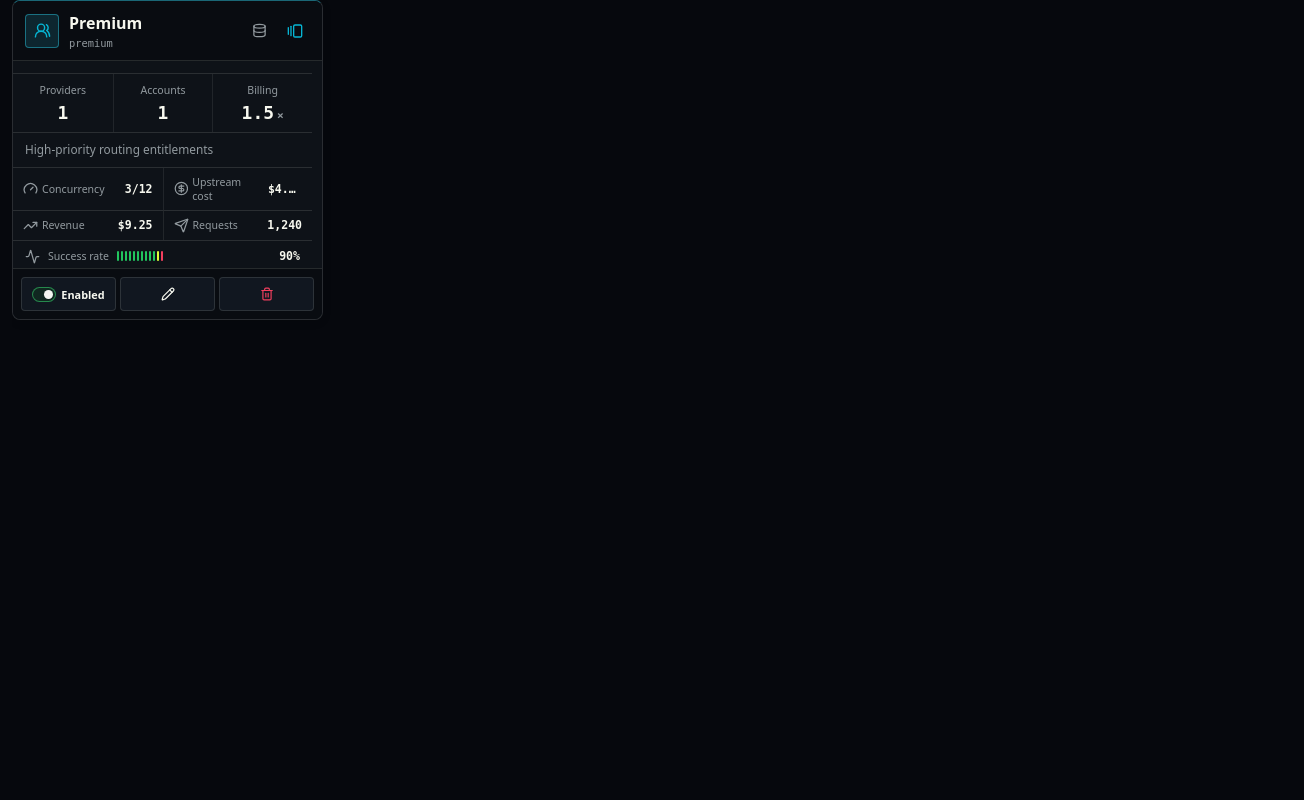
it: CredentialGroupsWorkspace › reuses the credential pool account cards for resolved members
What coordinates should you click on to do the following:
click the button "Premium premium"
I would click on:
 (152, 30)
Its box is x1=69 y1=12 x2=234 y2=49.
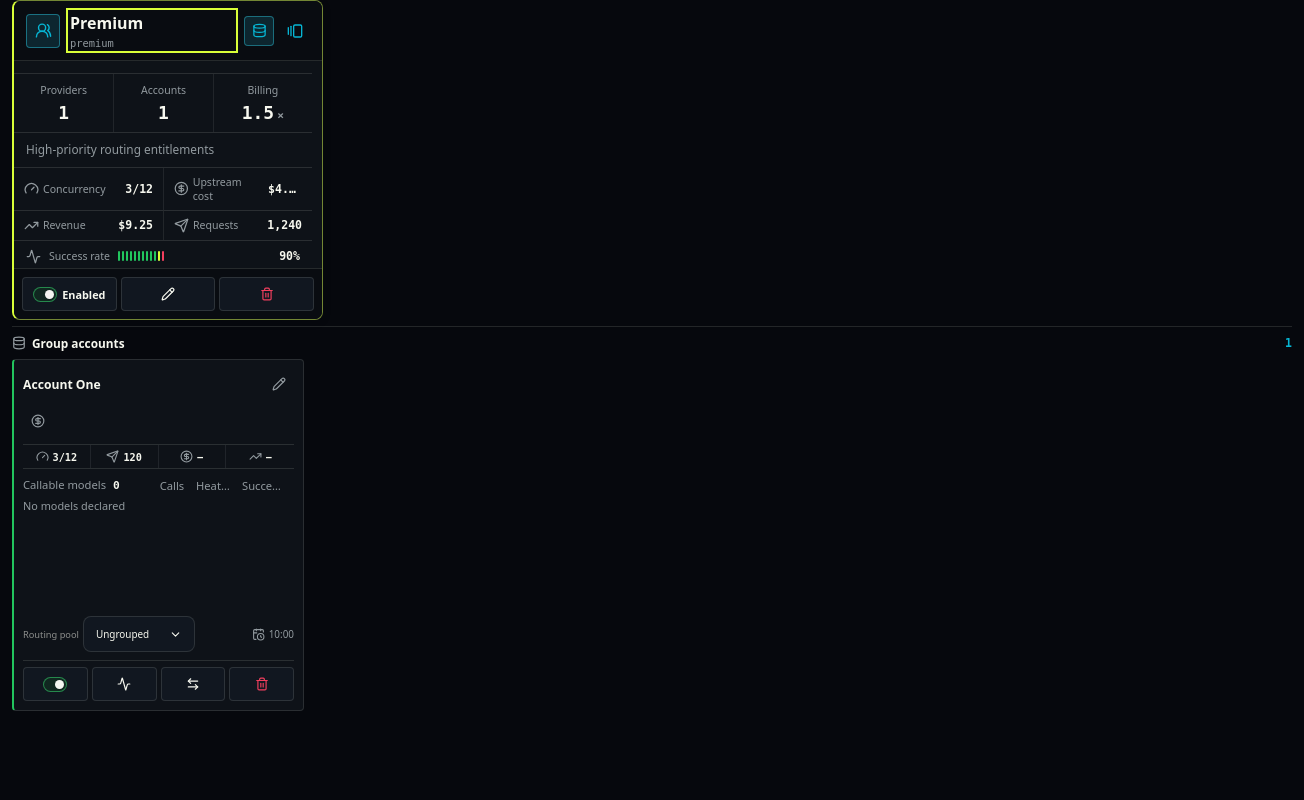
Result: the element with class "nt-provider-account-card" is shown at x1=12 y1=359 x2=304 y2=711
Result: the text "Account One" is shown at x1=23 y1=376 x2=101 y2=392
